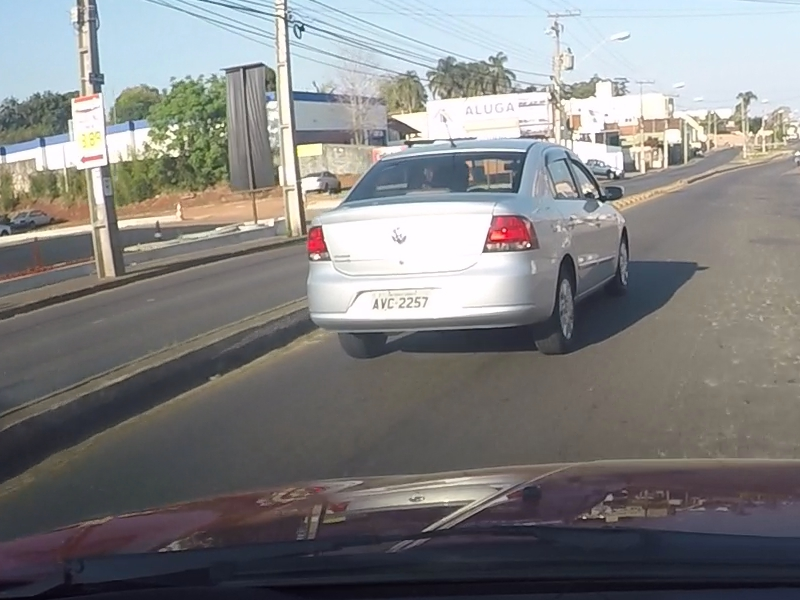placa: (369, 289, 432, 312)
